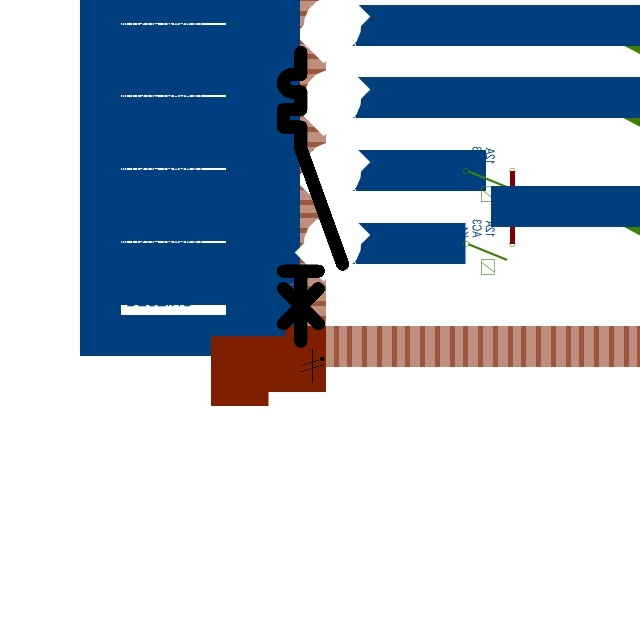interruptor_termomagnetico: (276, 45, 350, 349)
